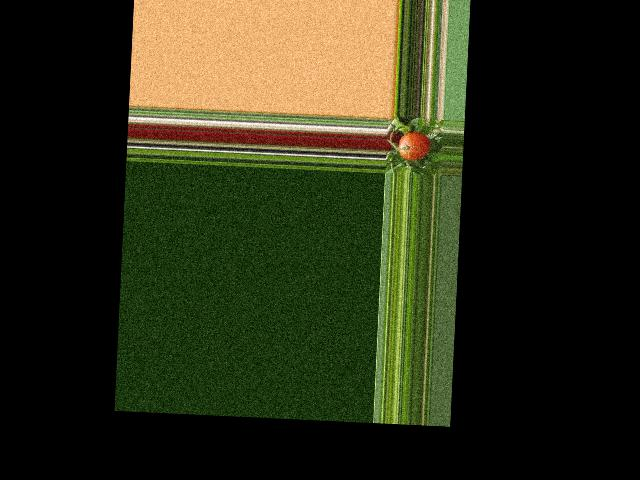tomato: (398, 132, 430, 161)
